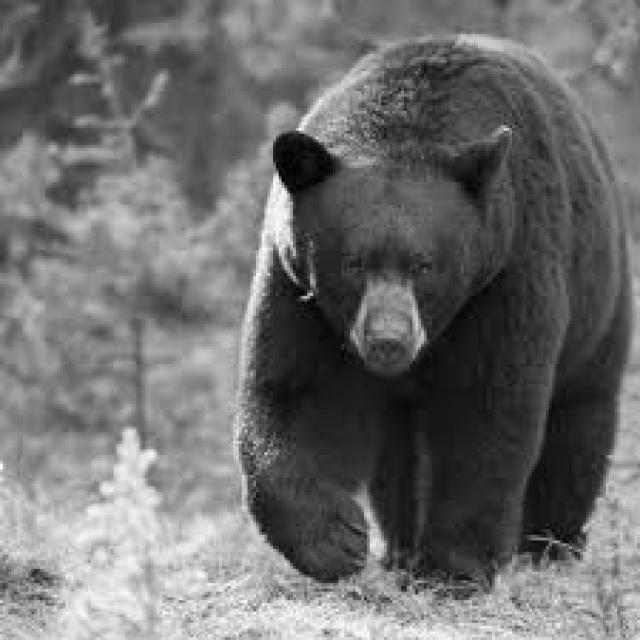Bear: (252, 26, 628, 589)
